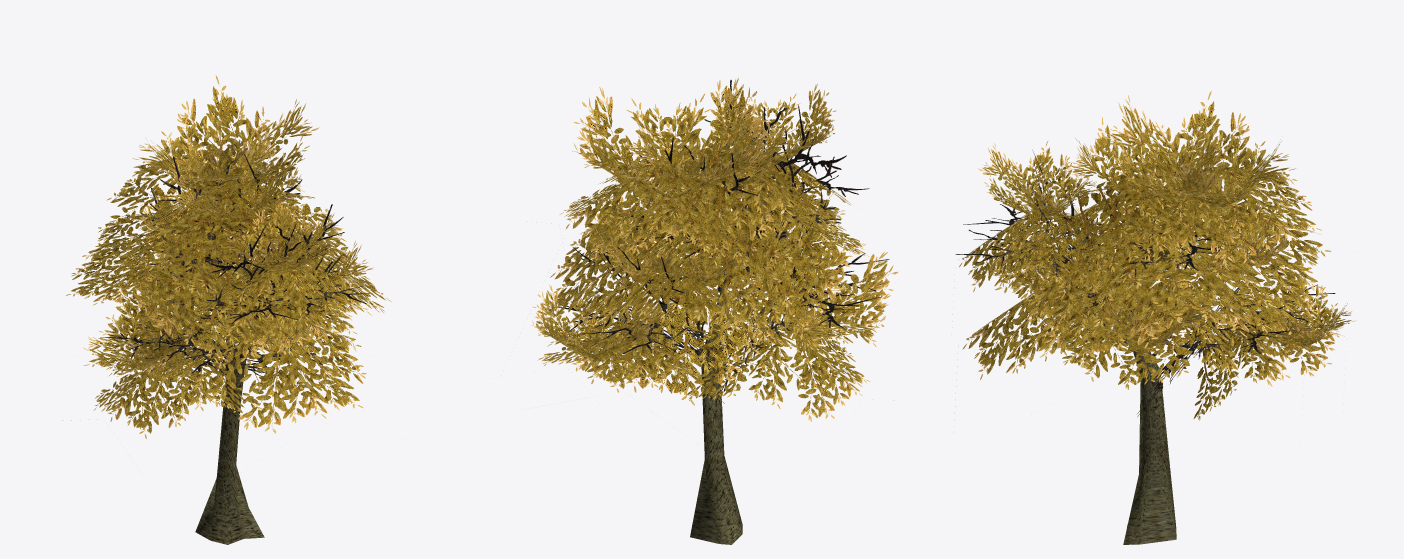
The model's file is flora_tree_oak_holly_autumn.glb.
The picture shows the model from 3 angles, left to right: view 1: azimuth 30°, elevation 25°; view 2: azimuth 150°, elevation 25°; view 3: azimuth 270°, elevation 25°; orthographic projection. The views are drawn at different scales.
Parts seen in each view (by area): view 1: flora_tree_oak_holly_autumn_part0, flora_tree_oak_holly_autumn_part1; view 2: flora_tree_oak_holly_autumn_part0, flora_tree_oak_holly_autumn_part1; view 3: flora_tree_oak_holly_autumn_part0, flora_tree_oak_holly_autumn_part1.
Boxes of the visible parts, x1=… form: flora_tree_oak_holly_autumn_part0: x1=62, y1=75, x2=391, y2=544; flora_tree_oak_holly_autumn_part1: x1=98, y1=154, x2=369, y2=376; flora_tree_oak_holly_autumn_part0: x1=531, y1=78, x2=897, y2=544; flora_tree_oak_holly_autumn_part1: x1=555, y1=80, x2=889, y2=402; flora_tree_oak_holly_autumn_part0: x1=951, y1=91, x2=1355, y2=544; flora_tree_oak_holly_autumn_part1: x1=955, y1=137, x2=1335, y2=416.
Bounding box in the file's own units: 16.98 × 20.58 × 17.18.
Materials: 2 (2 with a texture image).
